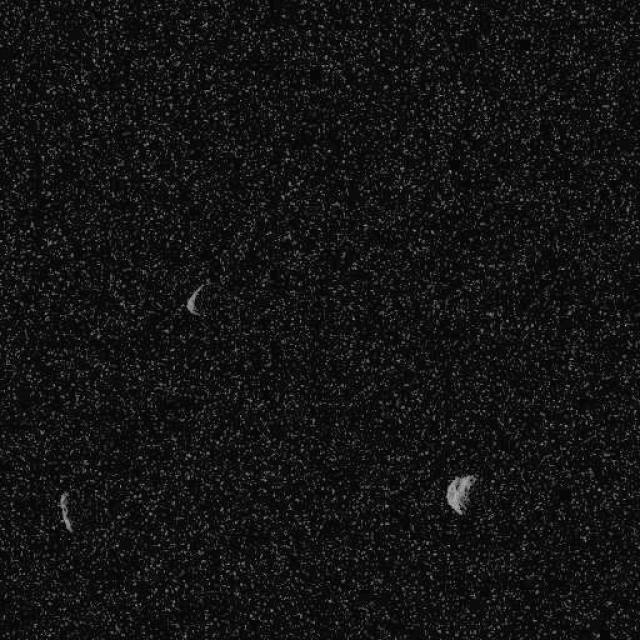D2: (444, 473, 476, 515), (184, 282, 208, 318), (56, 490, 75, 532)
